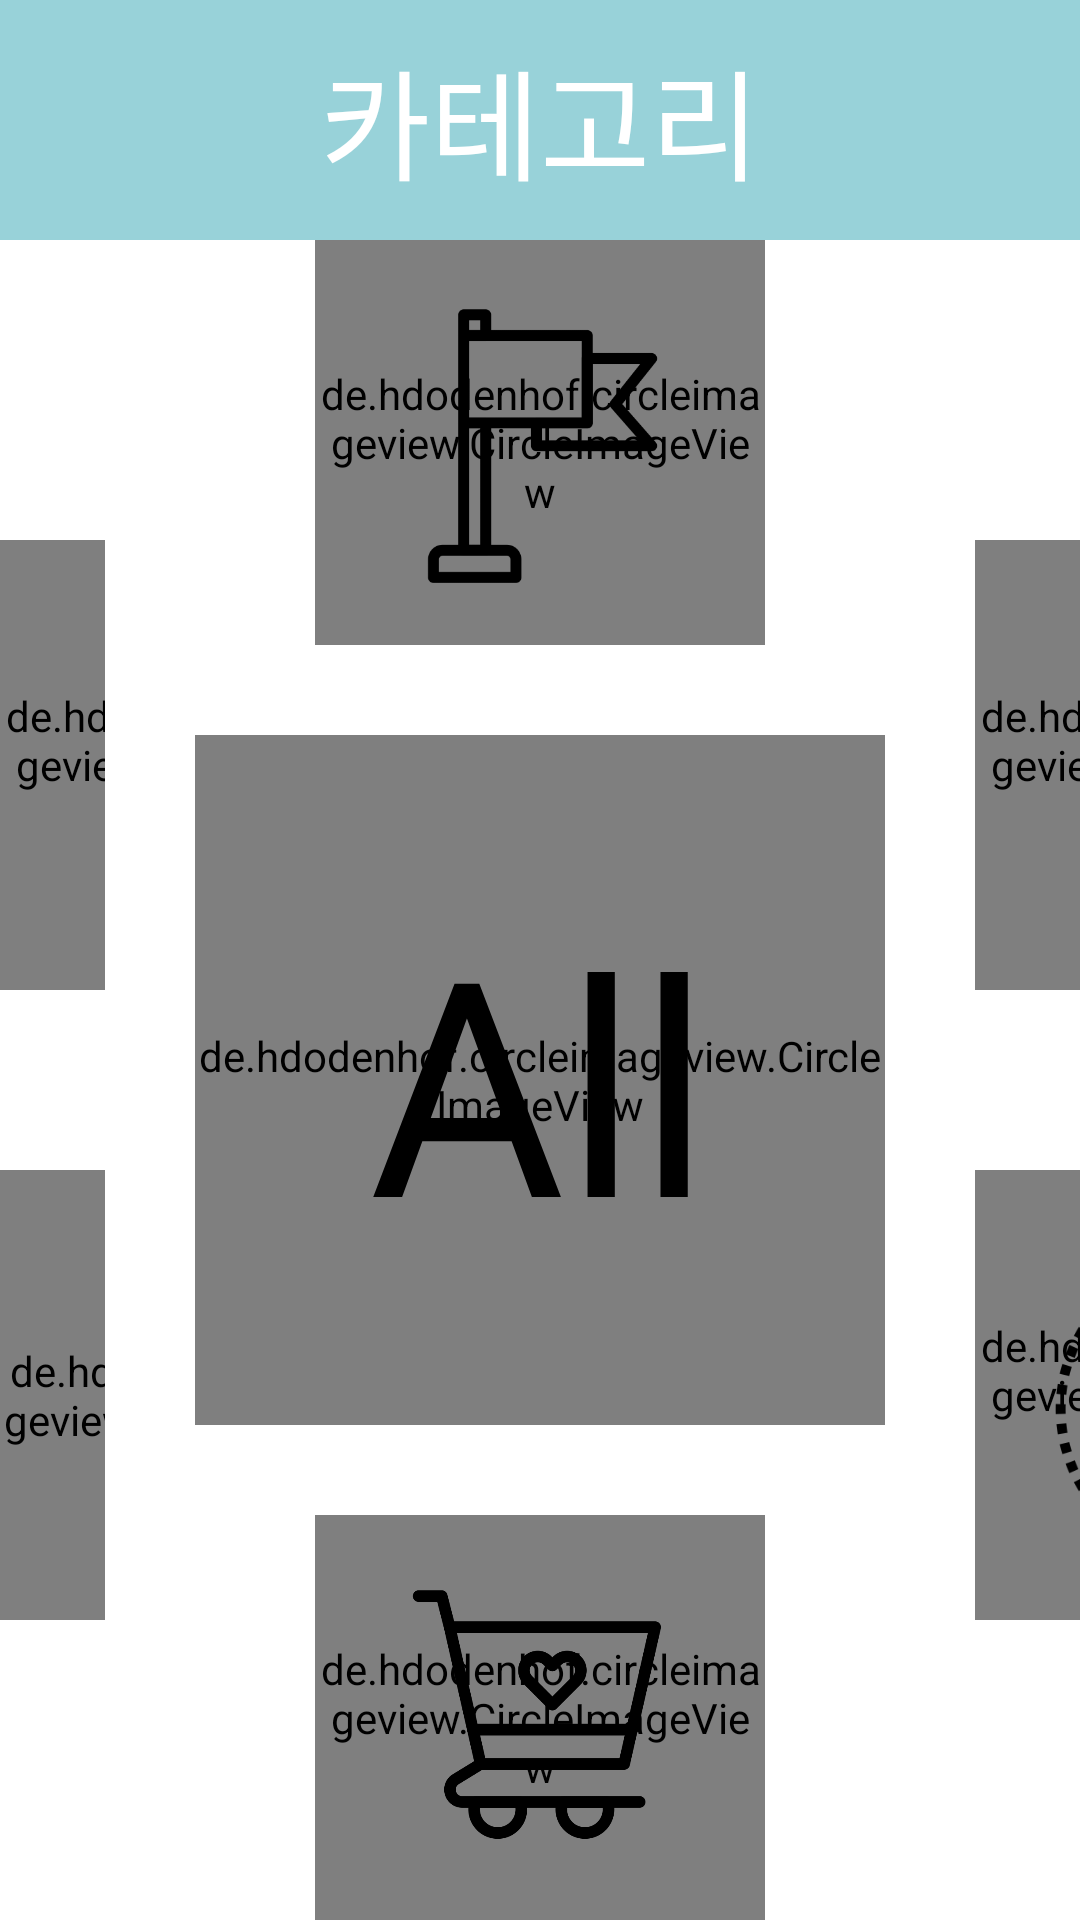

Locate icon controls on the screen. Image size 1080px x 1920px, boxes as (x1, y1, x2, y2).
goal: (400, 309, 690, 583)
wishlist: (405, 1590, 666, 1839)
